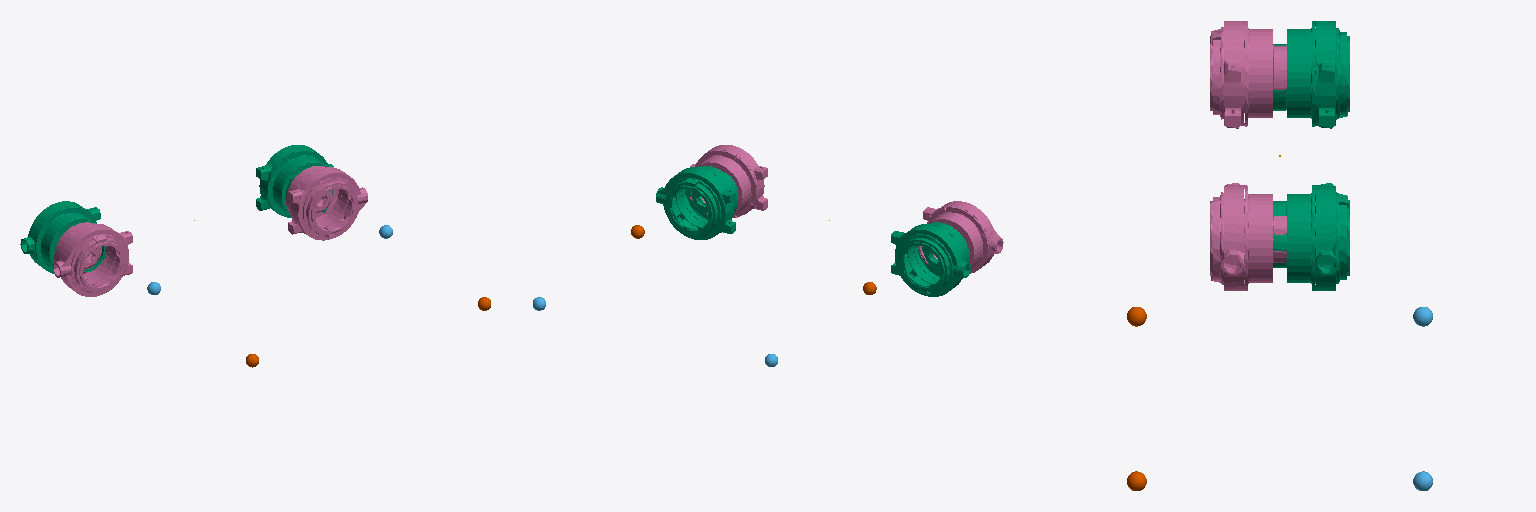
robot.urdf — go2:
<robot name="go2">
  <material name="black">
    <texture/>
    <color rgba="0 0 0 1"/>
  </material>
  <material name="blue">
    <texture/>
    <color rgba="0 0 0.8 1"/>
  </material>
  <material name="brown">
    <texture/>
    <color rgba="0.870588 0.811765 0.764706 1"/>
  </material>
  <material name="green">
    <texture/>
    <color rgba="0 0.8 0 1"/>
  </material>
  <material name="grey">
    <texture/>
    <color rgba="0.2 0.2 0.2 0"/>
  </material>
  <material name="orange">
    <texture/>
    <color rgba="1 0.423529 0.0392157 1"/>
  </material>
  <material name="red">
    <texture/>
    <color rgba="0.8 0 0 1"/>
  </material>
  <material name="silver">
    <texture/>
    <color rgba="0.913725 0.913725 0.847059 1"/>
  </material>
  <material name="white">
    <texture/>
    <color rgba="1 1 1 1"/>
  </material>
  <link name="FL_calf">
    <inertial>
      <mass value="0.154"/>
      <origin xyz="0.00548 -0.000975 -0.115" rpy="0 -0 0"/>
      <inertia ixx="0.00108" ixy="3.4e-07" ixz="1.72e-05" iyy="0.0011" iyz="8.28e-06" izz="3.29e-05"/>
    </inertial>
    <visual>
      <origin xyz="0 0 0" rpy="0 -0 0"/>
      <geometry>
        <mesh filename="../meshes/calf.dae" scale="1 1 1"/>
      </geometry>
    </visual>
    <collision>
      <origin xyz="0 0 -0.1065" rpy="0 1.5708 -0"/>
      <geometry>
        <box size="0.213 0.016 0.016"/>
      </geometry>
    </collision>
  </link>
  <link name="FL_foot">
    <inertial>
      <mass value="0.06"/>
      <origin xyz="0 0 0" rpy="0 -0 0"/>
      <inertia ixx="9.6e-06" ixy="0" ixz="0" iyy="9.6e-06" iyz="0" izz="9.6e-06"/>
    </inertial>
    <visual>
      <origin xyz="0 0 0" rpy="0 -0 0"/>
      <geometry>
        <sphere radius="0.01"/>
      </geometry>
    </visual>
    <collision>
      <origin xyz="0 0 0" rpy="0 -0 0"/>
      <geometry>
        <sphere radius="0.02"/>
      </geometry>
    </collision>
  </link>
  <link name="FL_hip">
    <inertial>
      <mass value="0.678"/>
      <origin xyz="-0.0054 0.00194 -0.000105" rpy="0 -0 0"/>
      <inertia ixx="0.00048" ixy="-3.01e-06" ixz="1.11e-06" iyy="0.000884" iyz="-1.42e-06" izz="0.000596"/>
    </inertial>
    <visual>
      <origin xyz="0 0 0" rpy="0 -0 0"/>
      <geometry>
        <mesh filename="../meshes/hip.dae" scale="1 1 1"/>
      </geometry>
    </visual>
    <collision>
      <origin xyz="0 0.0955 0" rpy="1.5708 -0 0"/>
      <geometry>
        <cylinder radius="0.046" length="0.04"/>
      </geometry>
    </collision>
  </link>
  <link name="FL_thigh">
    <inertial>
      <mass value="1.152"/>
      <origin xyz="-0.00374 -0.0223 -0.0327" rpy="0 -0 0"/>
      <inertia ixx="0.00584" ixy="8.72e-05" ixz="-0.000289" iyy="0.0058" iyz="0.000808" izz="0.00103"/>
    </inertial>
    <visual>
      <origin xyz="0 0 0" rpy="0 -0 0"/>
      <geometry>
        <mesh filename="../meshes/thigh.dae" scale="1 1 1"/>
      </geometry>
    </visual>
    <collision>
      <origin xyz="0 0 -0.1065" rpy="0 1.5708 -0"/>
      <geometry>
        <box size="0.213 0.0245 0.034"/>
      </geometry>
    </collision>
  </link>
  <link name="FR_calf">
    <inertial>
      <mass value="0.154"/>
      <origin xyz="0.00548 -0.000975 -0.115" rpy="0 -0 0"/>
      <inertia ixx="0.00108" ixy="3.4e-07" ixz="1.72e-05" iyy="0.0011" iyz="8.28e-06" izz="3.29e-05"/>
    </inertial>
    <visual>
      <origin xyz="0 0 0" rpy="0 -0 0"/>
      <geometry>
        <mesh filename="../meshes/calf.dae" scale="1 1 1"/>
      </geometry>
    </visual>
    <collision>
      <origin xyz="0 0 -0.1065" rpy="0 1.5708 -0"/>
      <geometry>
        <box size="0.213 0.016 0.016"/>
      </geometry>
    </collision>
  </link>
  <link name="FR_foot">
    <inertial>
      <mass value="0.06"/>
      <origin xyz="0 0 0" rpy="0 -0 0"/>
      <inertia ixx="9.6e-06" ixy="0" ixz="0" iyy="9.6e-06" iyz="0" izz="9.6e-06"/>
    </inertial>
    <visual>
      <origin xyz="0 0 0" rpy="0 -0 0"/>
      <geometry>
        <sphere radius="0.01"/>
      </geometry>
    </visual>
    <collision>
      <origin xyz="0 0 0" rpy="0 -0 0"/>
      <geometry>
        <sphere radius="0.02"/>
      </geometry>
    </collision>
  </link>
  <link name="FR_hip">
    <inertial>
      <mass value="0.678"/>
      <origin xyz="-0.0054 -0.00194 -0.000105" rpy="0 -0 0"/>
      <inertia ixx="0.00048" ixy="3.01e-06" ixz="1.11e-06" iyy="0.000884" iyz="1.42e-06" izz="0.000596"/>
    </inertial>
    <visual>
      <origin xyz="0 0 0" rpy="3.14159 -0 0"/>
      <geometry>
        <mesh filename="../meshes/hip.dae" scale="1 1 1"/>
      </geometry>
    </visual>
    <collision>
      <origin xyz="0 -0.0955 0" rpy="1.5708 -0 0"/>
      <geometry>
        <cylinder radius="0.046" length="0.04"/>
      </geometry>
    </collision>
  </link>
  <link name="FR_thigh">
    <inertial>
      <mass value="1.152"/>
      <origin xyz="-0.00374 0.0223 -0.0327" rpy="0 -0 0"/>
      <inertia ixx="0.00584" ixy="-8.72e-05" ixz="-0.000289" iyy="0.0058" iyz="-0.000808" izz="0.00103"/>
    </inertial>
    <visual>
      <origin xyz="0 0 0" rpy="0 -0 0"/>
      <geometry>
        <mesh filename="../meshes/thigh_mirror.dae" scale="1 1 1"/>
      </geometry>
    </visual>
    <collision>
      <origin xyz="0 0 -0.1065" rpy="0 1.5708 -0"/>
      <geometry>
        <box size="0.213 0.0245 0.034"/>
      </geometry>
    </collision>
  </link>
  <link name="RL_calf">
    <inertial>
      <mass value="0.154"/>
      <origin xyz="0.00548 -0.000975 -0.115" rpy="0 -0 0"/>
      <inertia ixx="0.00108" ixy="3.4e-07" ixz="1.72e-05" iyy="0.0011" iyz="8.28e-06" izz="3.29e-05"/>
    </inertial>
    <visual>
      <origin xyz="0 0 0" rpy="0 -0 0"/>
      <geometry>
        <mesh filename="../meshes/calf.dae" scale="1 1 1"/>
      </geometry>
    </visual>
    <collision>
      <origin xyz="0 0 -0.1065" rpy="0 1.5708 -0"/>
      <geometry>
        <box size="0.213 0.016 0.016"/>
      </geometry>
    </collision>
  </link>
  <link name="RL_foot">
    <inertial>
      <mass value="0.06"/>
      <origin xyz="0 0 0" rpy="0 -0 0"/>
      <inertia ixx="9.6e-06" ixy="0" ixz="0" iyy="9.6e-06" iyz="0" izz="9.6e-06"/>
    </inertial>
    <visual>
      <origin xyz="0 0 0" rpy="0 -0 0"/>
      <geometry>
        <sphere radius="0.01"/>
      </geometry>
    </visual>
    <collision>
      <origin xyz="0 0 0" rpy="0 -0 0"/>
      <geometry>
        <sphere radius="0.02"/>
      </geometry>
    </collision>
  </link>
  <link name="RL_hip">
    <inertial>
      <mass value="0.678"/>
      <origin xyz="0.0054 0.00194 -0.000105" rpy="0 -0 0"/>
      <inertia ixx="0.00048" ixy="3.01e-06" ixz="-1.11e-06" iyy="0.000884" iyz="-1.42e-06" izz="0.000596"/>
    </inertial>
    <visual>
      <origin xyz="0 0 0" rpy="3.14159 1.22465e-16 3.14159"/>
      <geometry>
        <mesh filename="../meshes/hip.dae" scale="1 1 1"/>
      </geometry>
    </visual>
    <collision>
      <origin xyz="0 0.0955 0" rpy="1.5708 -0 0"/>
      <geometry>
        <cylinder radius="0.046" length="0.04"/>
      </geometry>
    </collision>
  </link>
  <link name="RL_thigh">
    <inertial>
      <mass value="1.152"/>
      <origin xyz="-0.00374 -0.0223 -0.0327" rpy="0 -0 0"/>
      <inertia ixx="0.00584" ixy="8.72e-05" ixz="-0.000289" iyy="0.0058" iyz="0.000808" izz="0.00103"/>
    </inertial>
    <visual>
      <origin xyz="0 0 0" rpy="0 -0 0"/>
      <geometry>
        <mesh filename="../meshes/thigh.dae" scale="1 1 1"/>
      </geometry>
    </visual>
    <collision>
      <origin xyz="0 0 -0.1065" rpy="0 1.5708 -0"/>
      <geometry>
        <box size="0.213 0.0245 0.034"/>
      </geometry>
    </collision>
  </link>
  <link name="RR_calf">
    <inertial>
      <mass value="0.154"/>
      <origin xyz="0.00548 -0.000975 -0.115" rpy="0 -0 0"/>
      <inertia ixx="0.00108" ixy="3.4e-07" ixz="1.72e-05" iyy="0.0011" iyz="8.28e-06" izz="3.29e-05"/>
    </inertial>
    <visual>
      <origin xyz="0 0 0" rpy="0 -0 0"/>
      <geometry>
        <mesh filename="../meshes/calf.dae" scale="1 1 1"/>
      </geometry>
    </visual>
    <collision>
      <origin xyz="0 0 -0.1065" rpy="0 1.5708 -0"/>
      <geometry>
        <box size="0.213 0.016 0.016"/>
      </geometry>
    </collision>
  </link>
  <link name="RR_foot">
    <inertial>
      <mass value="0.06"/>
      <origin xyz="0 0 0" rpy="0 -0 0"/>
      <inertia ixx="9.6e-06" ixy="0" ixz="0" iyy="9.6e-06" iyz="0" izz="9.6e-06"/>
    </inertial>
    <visual>
      <origin xyz="0 0 0" rpy="0 -0 0"/>
      <geometry>
        <sphere radius="0.01"/>
      </geometry>
    </visual>
    <collision>
      <origin xyz="0 0 0" rpy="0 -0 0"/>
      <geometry>
        <sphere radius="0.02"/>
      </geometry>
    </collision>
  </link>
  <link name="RR_hip">
    <inertial>
      <mass value="0.678"/>
      <origin xyz="0.0054 -0.00194 -0.000105" rpy="0 -0 0"/>
      <inertia ixx="0.00048" ixy="-3.01e-06" ixz="-1.11e-06" iyy="0.000884" iyz="1.42e-06" izz="0.000596"/>
    </inertial>
    <visual>
      <origin xyz="0 0 0" rpy="-1.22465e-16 1.22465e-16 3.14159"/>
      <geometry>
        <mesh filename="../meshes/hip.dae" scale="1 1 1"/>
      </geometry>
    </visual>
    <collision>
      <origin xyz="0 -0.0955 0" rpy="1.5708 -0 0"/>
      <geometry>
        <cylinder radius="0.046" length="0.04"/>
      </geometry>
    </collision>
  </link>
  <link name="RR_thigh">
    <inertial>
      <mass value="1.152"/>
      <origin xyz="-0.00374 0.0223 -0.0327" rpy="0 -0 0"/>
      <inertia ixx="0.00584" ixy="-8.72e-05" ixz="-0.000289" iyy="0.0058" iyz="-0.000808" izz="0.00103"/>
    </inertial>
    <visual>
      <origin xyz="0 0 0" rpy="0 -0 0"/>
      <geometry>
        <mesh filename="../meshes/thigh_mirror.dae" scale="1 1 1"/>
      </geometry>
    </visual>
    <collision>
      <origin xyz="0 0 -0.1065" rpy="0 1.5708 -0"/>
      <geometry>
        <box size="0.213 0.0245 0.034"/>
      </geometry>
    </collision>
  </link>
  <link name="base">
    <visual>
      <origin xyz="0 0 0" rpy="0 -0 0"/>
      <geometry>
        <box size="0.001 0.001 0.001"/>
      </geometry>
    </visual>
  </link>
  <link name="imu_link">
    <inertial>
      <mass value="0.001"/>
      <origin xyz="0 0 0" rpy="0 -0 0"/>
      <inertia ixx="0.0001" ixy="0" ixz="0" iyy="0.0001" iyz="0" izz="0.0001"/>
    </inertial>
    <visual>
      <origin xyz="0 0 0" rpy="0 -0 0"/>
      <geometry>
        <box size="0.001 0.001 0.001"/>
      </geometry>
    </visual>
    <collision>
      <origin xyz="0 0 0" rpy="0 -0 0"/>
      <geometry>
        <box size="0.001 0.001 0.001"/>
      </geometry>
    </collision>
  </link>
  <link name="trunk">
    <inertial>
      <mass value="6.921"/>
      <origin xyz="0.021112 0 -0.005366" rpy="0 -0 0"/>
      <inertia ixx="0.02448" ixy="0.00012166" ixz="0.0014849" iyy="0.098077" iyz="-3.12e-05" izz="0.107"/>
    </inertial>
    <visual>
      <origin xyz="0 0 0" rpy="0 -0 0"/>
      <geometry>
        <mesh filename="../meshes/trunk.dae" scale="1 1 1"/>
      </geometry>
    </visual>
    <collision>
      <origin xyz="0 0 0" rpy="0 -0 0"/>
      <geometry>
        <box size="0.3762 0.0935 0.114"/>
      </geometry>
    </collision>
  </link>
  <joint name="FL_calf_joint" type="revolute">
    <origin xyz="0 0 -0.213" rpy="0 -0 0"/>
    <axis xyz="0 1 0"/>
    <parent link="FL_thigh"/>
    <child link="FL_calf"/>
    <dynamics damping="0" friction="0"/>
    <limit effort="35.55" velocity="20.06" lower="-2.7227" upper="-0.83776"/>
  </joint>
  <joint name="FL_foot_fixed" type="fixed">
    <origin xyz="0 0 -0.213" rpy="0 -0 0"/>
    <axis xyz="0 0 0"/>
    <parent link="FL_calf"/>
    <child link="FL_foot"/>
  </joint>
  <joint name="FL_hip_joint" type="revolute">
    <origin xyz="0.1934 0.0465 0" rpy="0 -0 0"/>
    <axis xyz="1 0 0"/>
    <parent link="trunk"/>
    <child link="FL_hip"/>
    <dynamics damping="0" friction="0"/>
    <limit effort="23.7" velocity="30.1" lower="-1.0472" upper="1.0472"/>
  </joint>
  <joint name="FL_thigh_joint" type="revolute">
    <origin xyz="0 0.0955 0" rpy="0 -0 0"/>
    <axis xyz="0 1 0"/>
    <parent link="FL_hip"/>
    <child link="FL_thigh"/>
    <dynamics damping="0" friction="0"/>
    <limit effort="23.7" velocity="30.1" lower="-1.5708" upper="3.4907"/>
  </joint>
  <joint name="FR_calf_joint" type="revolute">
    <origin xyz="0 0 -0.213" rpy="0 -0 0"/>
    <axis xyz="0 1 0"/>
    <parent link="FR_thigh"/>
    <child link="FR_calf"/>
    <dynamics damping="0" friction="0"/>
    <limit effort="35.55" velocity="20.06" lower="-2.7227" upper="-0.83776"/>
  </joint>
  <joint name="FR_foot_fixed" type="fixed">
    <origin xyz="0 0 -0.213" rpy="0 -0 0"/>
    <axis xyz="0 0 0"/>
    <parent link="FR_calf"/>
    <child link="FR_foot"/>
  </joint>
  <joint name="FR_hip_joint" type="revolute">
    <origin xyz="0.1934 -0.0465 0" rpy="0 -0 0"/>
    <axis xyz="1 0 0"/>
    <parent link="trunk"/>
    <child link="FR_hip"/>
    <dynamics damping="0" friction="0"/>
    <limit effort="23.7" velocity="30.1" lower="-1.0472" upper="1.0472"/>
  </joint>
  <joint name="FR_thigh_joint" type="revolute">
    <origin xyz="0 -0.0955 0" rpy="0 -0 0"/>
    <axis xyz="0 1 0"/>
    <parent link="FR_hip"/>
    <child link="FR_thigh"/>
    <dynamics damping="0" friction="0"/>
    <limit effort="23.7" velocity="30.1" lower="-1.5708" upper="3.4907"/>
  </joint>
  <joint name="RL_calf_joint" type="revolute">
    <origin xyz="0 0 -0.213" rpy="0 -0 0"/>
    <axis xyz="0 1 0"/>
    <parent link="RL_thigh"/>
    <child link="RL_calf"/>
    <dynamics damping="0" friction="0"/>
    <limit effort="35.55" velocity="20.06" lower="-2.7227" upper="-0.83776"/>
  </joint>
  <joint name="RL_foot_fixed" type="fixed">
    <origin xyz="0 0 -0.213" rpy="0 -0 0"/>
    <axis xyz="0 0 0"/>
    <parent link="RL_calf"/>
    <child link="RL_foot"/>
  </joint>
  <joint name="RL_hip_joint" type="revolute">
    <origin xyz="-0.1934 0.0465 0" rpy="0 -0 0"/>
    <axis xyz="1 0 0"/>
    <parent link="trunk"/>
    <child link="RL_hip"/>
    <dynamics damping="0" friction="0"/>
    <limit effort="23.7" velocity="30.1" lower="-1.0472" upper="1.0472"/>
  </joint>
  <joint name="RL_thigh_joint" type="revolute">
    <origin xyz="0 0.0955 0" rpy="0 -0 0"/>
    <axis xyz="0 1 0"/>
    <parent link="RL_hip"/>
    <child link="RL_thigh"/>
    <dynamics damping="0" friction="0"/>
    <limit effort="23.7" velocity="30.1" lower="-1.5708" upper="3.4907"/>
  </joint>
  <joint name="RR_calf_joint" type="revolute">
    <origin xyz="0 0 -0.213" rpy="0 -0 0"/>
    <axis xyz="0 1 0"/>
    <parent link="RR_thigh"/>
    <child link="RR_calf"/>
    <dynamics damping="0" friction="0"/>
    <limit effort="35.55" velocity="20.06" lower="-2.7227" upper="-0.83776"/>
  </joint>
  <joint name="RR_foot_fixed" type="fixed">
    <origin xyz="0 0 -0.213" rpy="0 -0 0"/>
    <axis xyz="0 0 0"/>
    <parent link="RR_calf"/>
    <child link="RR_foot"/>
  </joint>
  <joint name="RR_hip_joint" type="revolute">
    <origin xyz="-0.1934 -0.0465 0" rpy="0 -0 0"/>
    <axis xyz="1 0 0"/>
    <parent link="trunk"/>
    <child link="RR_hip"/>
    <dynamics damping="0" friction="0"/>
    <limit effort="23.7" velocity="30.1" lower="-1.0472" upper="1.0472"/>
  </joint>
  <joint name="RR_thigh_joint" type="revolute">
    <origin xyz="0 -0.0955 0" rpy="0 -0 0"/>
    <axis xyz="0 1 0"/>
    <parent link="RR_hip"/>
    <child link="RR_thigh"/>
    <dynamics damping="0" friction="0"/>
    <limit effort="23.7" velocity="30.1" lower="-1.5708" upper="3.4907"/>
  </joint>
  <joint name="floating_base" type="fixed">
    <origin xyz="0 0 0" rpy="0 -0 0"/>
    <axis xyz="0 0 0"/>
    <parent link="base"/>
    <child link="trunk"/>
  </joint>
  <joint name="imu_joint" type="fixed">
    <origin xyz="0 0 0" rpy="0 -0 0"/>
    <axis xyz="0 0 0"/>
    <parent link="trunk"/>
    <child link="imu_link"/>
  </joint>
</robot>

--- Render facts (derived) ---
The picture shows the robot from 3 angles, left to right: view 1: azimuth 30°, elevation 25°; view 2: azimuth 150°, elevation 25°; view 3: azimuth 270°, elevation 25°; orthographic projection.
Robot: go2 — 19 links, 18 joints (12 revolute, 6 fixed); root link base; default pose: joints at zero except 4 at the middle of their limits (FL_calf_joint = -1.78, FR_calf_joint = -1.78, RL_calf_joint = -1.78, RR_calf_joint = -1.78).
Links seen in each view (by area): view 1: FR_hip, RR_hip, RL_hip, FL_hip; view 2: FL_hip, RL_hip, RR_hip, FR_hip; view 3: RR_hip, FL_hip, FR_hip, RL_hip.
Boxes of the visible links, x1,y1,x2,y2 form: FR_hip: [285, 166, 367, 240]; RR_hip: [53, 222, 132, 296]; RL_hip: [20, 201, 106, 273]; FL_hip: [256, 145, 333, 217]; FL_hip: [656, 166, 738, 239]; RL_hip: [891, 222, 970, 296]; RR_hip: [918, 201, 1003, 273]; FR_hip: [690, 145, 767, 217]; RR_hip: [1210, 21, 1286, 128]; FL_hip: [1273, 183, 1349, 290]; FR_hip: [1210, 183, 1286, 290]; RL_hip: [1273, 21, 1349, 128].
Size in the robot's own frame: 0.6681 by 0.304 by 0.2313 metres.
4 mesh visuals loaded from 5 distinct referenced files (1 Collada DAE); not drawn: 9 (reference not matched to a file when rendering).